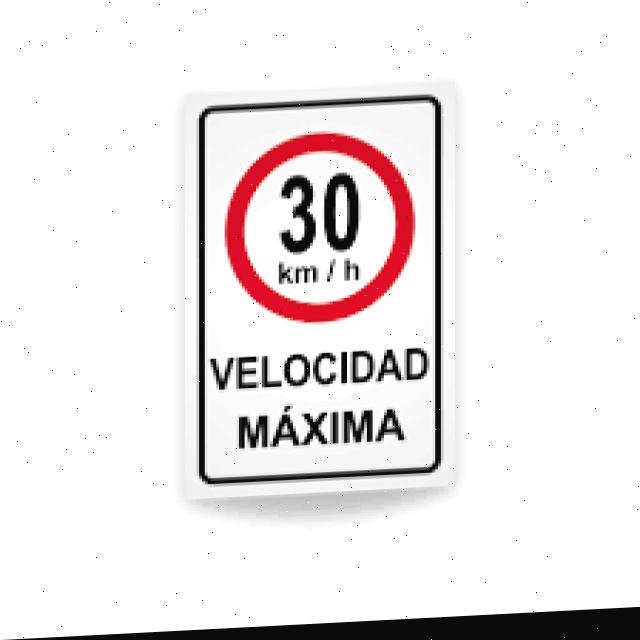Speed limit 30: (223, 126, 416, 331)
